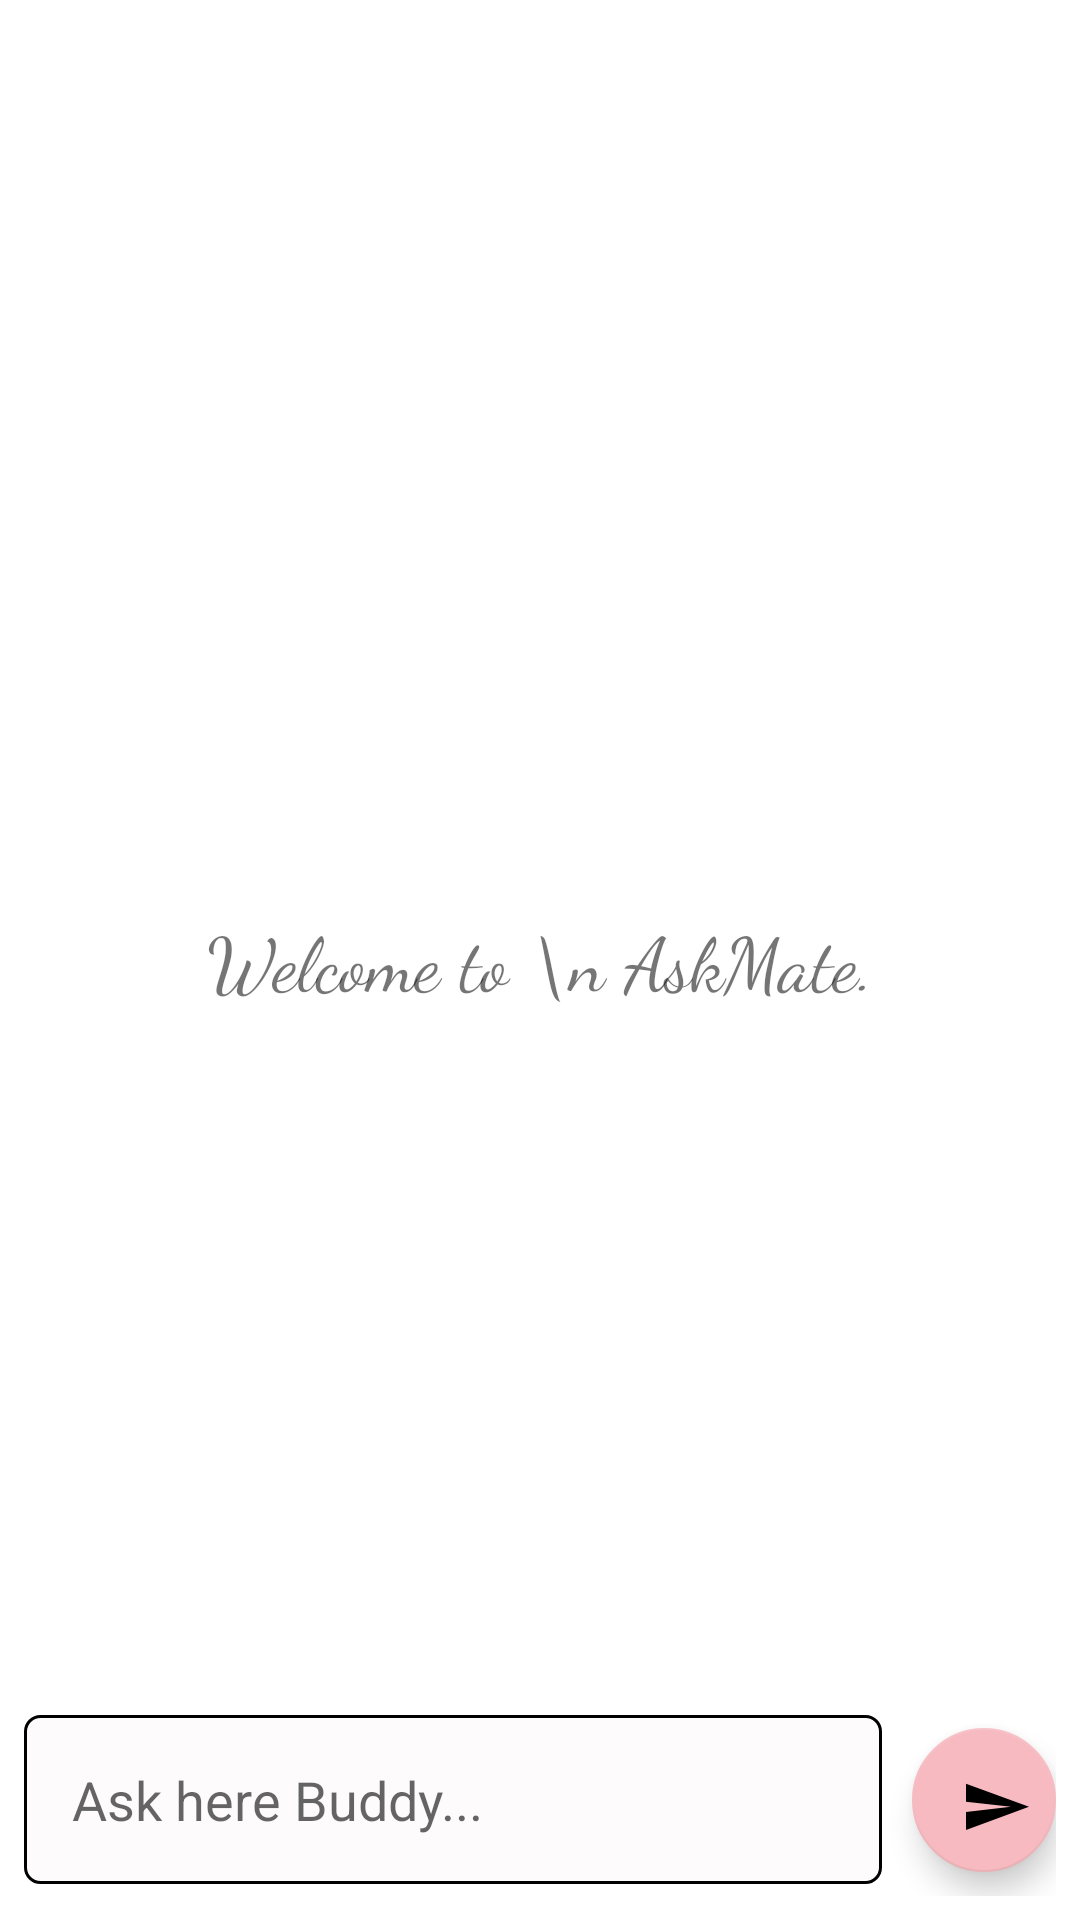

Where to tap for icons on this 1080*1920 app screen, as point (x, y):
send: point (984, 1800)
